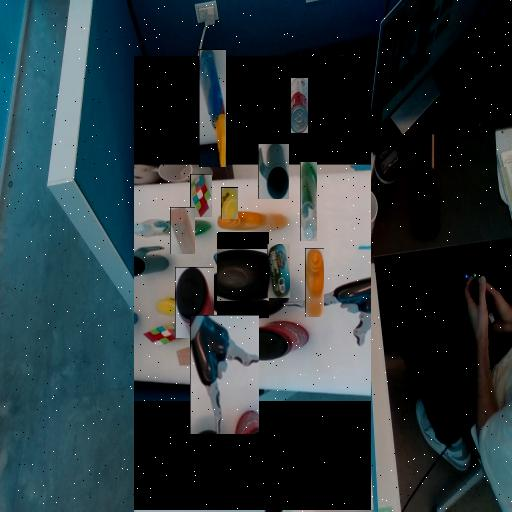bowl: (217, 250, 269, 302)
cleanser: (300, 161, 317, 241)
coffee_can: (176, 267, 214, 338)
jaco: (191, 316, 259, 434)
meat_can: (267, 244, 290, 298)
mug: (259, 143, 289, 199)
mustard_bottle: (305, 248, 324, 317)
rubik: (190, 174, 212, 217)
soup_can: (290, 78, 308, 133)
tennis_ball: (221, 188, 238, 219)
windex: (199, 50, 226, 167)
wooden_block: (171, 208, 195, 254)
workspace: (134, 172, 371, 397)
